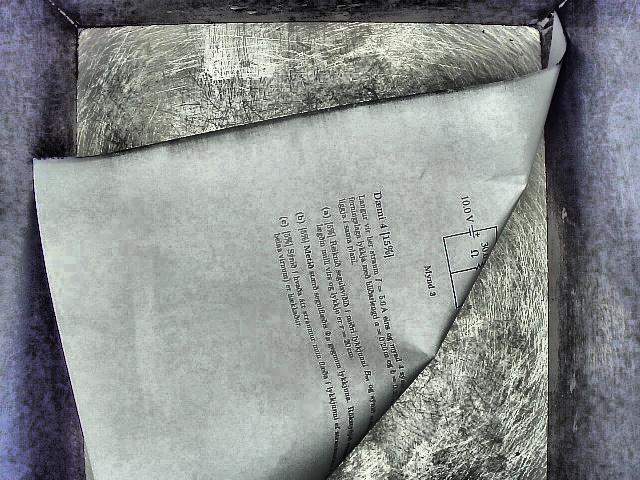Paper: (27, 9, 572, 480)
